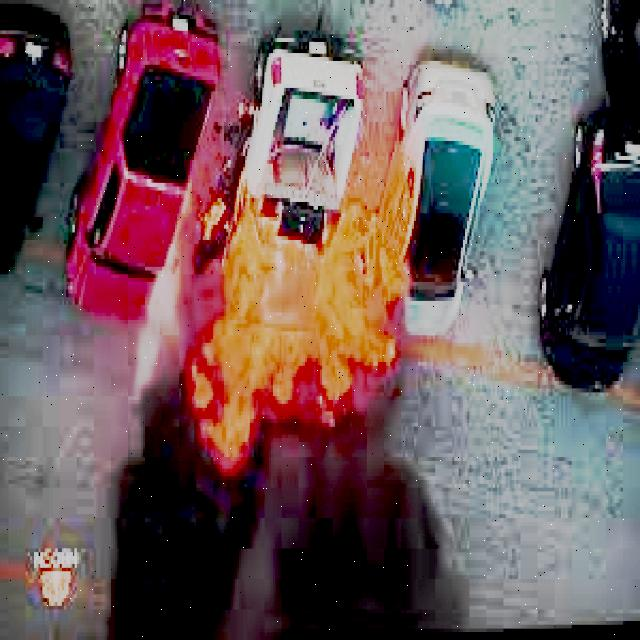api: (187, 196, 396, 470)
